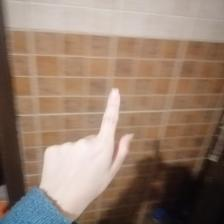five: (42, 83, 137, 200)
